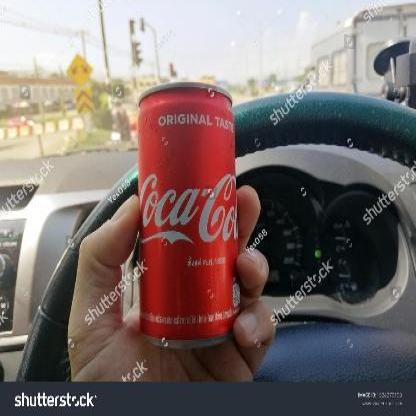alumunium_can: (136, 80, 241, 350)
